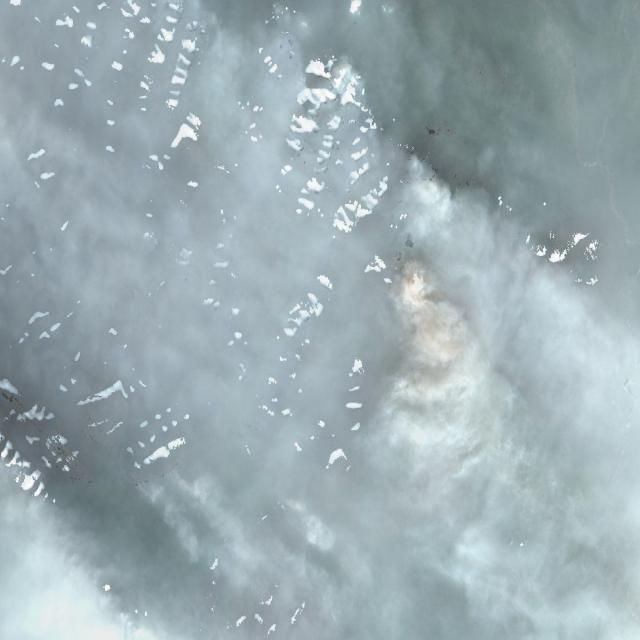fire: (388, 256, 473, 349)
